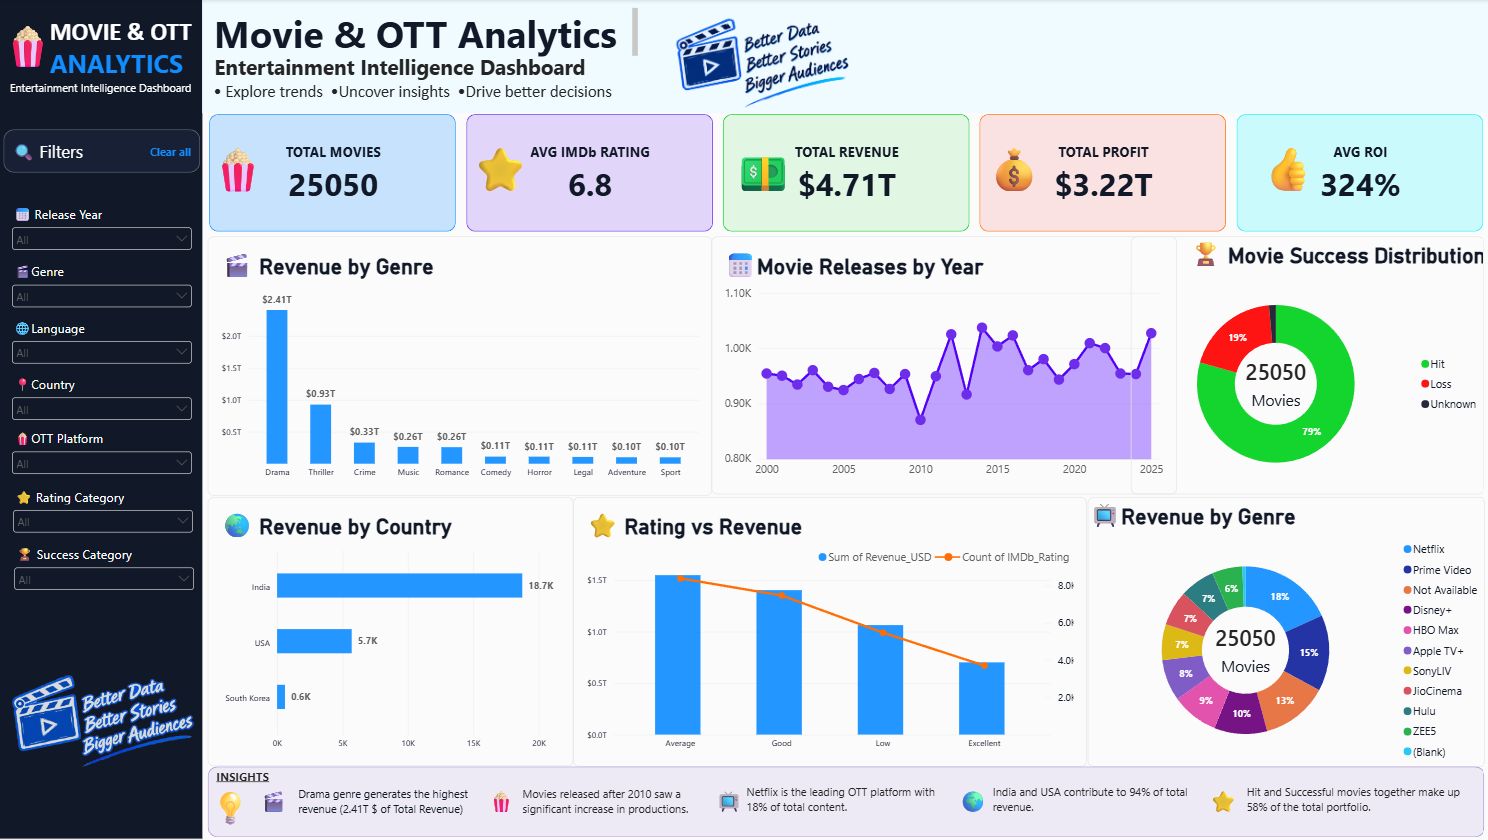

What the dashboard file says about the page in this screenshot:
{"tool":"powerbi","page":{"name":"Executive Dashboard","canvas":[1920,1080],"ordinal":0},"visuals":[{"type":"shape","box":[0,0,261.9,1079.9],"z":0},{"type":"textbox","box":[261.9,147,13.5,932.8],"z":1000},{"type":"textbox","box":[65.9,22,196,125.1],"z":2000},{"type":"shape","box":[261.7,0,1656.7,146.7],"z":3000},{"type":"textbox","box":[0,22,131.8,99.7],"z":4000},{"type":"textbox","box":[276,12,544.2,62.5],"z":5000},{"type":"textbox","box":[276,68,1620.6,36],"z":6000},{"type":"textbox","box":[275.5,107,1644.3,37.2],"z":7000},{"type":"columnChart","title":"🎬 Revenue by Genre","fields":{"Y":["Sum(Movies.Revenue_USD)"],"Category":["Movies.Sub_Genre"]},"box":[268.3,305,648.3,333.3],"z":8000},{"type":"donutChart","title":"📺Revenue by Genre","fields":{"Y":["CountNonNull(Movies.Movie_ID)"],"Category":["Movies.OTT_Platform"]},"box":[1398.6,640,511.7,346.7],"z":9000},{"type":"lineChart","title":"📅Movie Releases by Year","fields":{"Category":["Movies.Release_Year"],"Y":["CountNonNull(Movies.Movie_ID)"]},"box":[915,305,598.3,331.7],"z":10000},{"type":"barChart","title":"🌏 Revenue by Country","fields":{"Category":["Movies.Country"],"Y":["CountNonNull(Movies.Movie_ID)"]},"box":[268.3,640,470,346],"z":11000},{"type":"lineStackedColumnComboChart","title":"⭐ Rating vs Revenue","fields":{"Y":["Sum(Movies.Revenue_USD)"],"Category":["Movies.Rating_Category"],"Y2":["CountNonNull(Movies.IMDb_Rating)"]},"box":[738.3,640,660,346.7],"z":12000},{"type":"donutChart","title":"🏆 Movie Success Distribution","fields":{"Y":["CountNonNull(Movies.Movie_ID)"],"Category":["Movies.Success_category"]},"box":[1455,305,455,331.7],"z":13000},{"type":"cardVisual","fields":{"Data":["Movies.totsl movies","Movies.avg imdb","Movies.total_revenue","Movies.total profit","Movies.avg  ROI"]},"box":[268.3,146.7,1641.7,155],"z":14000},{"type":"textbox","box":[268.6,178.6,1648.6,87.1],"z":15000},{"type":"textbox","box":[0,104.3,261.4,21.4],"z":16000},{"type":"shape","title":"fILTERS","box":[5.7,167.1,252.9,55.7],"z":17000},{"type":"actionButton","box":[164.3,171.4,94.3,50],"z":18000},{"type":"textbox","box":[17.1,181.4,147.1,30],"z":19000},{"type":"slicer","fields":{"Values":["Movies.Release_Year"]},"box":[11.4,265.7,241.4,72.9],"z":20000},{"type":"slicer","fields":{"Values":["Movies.Sub_Genre"]},"box":[11.4,338.6,241.4,72.9],"z":21000},{"type":"slicer","fields":{"Values":["Movies.Language"]},"box":[11.4,411.4,241.4,72.9],"z":22000},{"type":"slicer","fields":{"Values":["Movies.Country"]},"box":[11.4,484.3,241.4,61.4],"z":23000},{"type":"slicer","fields":{"Values":["Movies.OTT_Platform"]},"box":[11.4,552.9,241.4,74.3],"z":24000},{"type":"slicer","fields":{"Values":["Movies.Rating_Category"]},"box":[12.9,628.6,241.4,74.3],"z":25000},{"type":"slicer","fields":{"Values":["Movies.Success_category"]},"box":[14.3,702.9,241.4,74.3],"z":26000},{"type":"image","box":[778.3,0,393.3,143.3],"z":27000},{"type":"shape","box":[268.3,986.7,1641.7,91],"z":28000},{"type":"textbox","box":[268.9,1008.9,50,68.9],"z":29000},{"type":"textbox","box":[384.3,1011.4,231.4,65.7],"z":30000},{"type":"textbox","box":[280,989,142.2,22.2],"z":31000},{"type":"textbox","box":[672.9,1011.4,224.3,65.7],"z":32000},{"type":"textbox","box":[960,1008.6,254.3,68.6],"z":33000},{"type":"image","box":[0,777.8,254.4,281.1],"z":34000},{"type":"textbox","box":[1277.1,1008.6,252.9,68.6],"z":35000},{"type":"textbox","box":[100,305.6,625.6,240],"z":36000},{"type":"textbox","box":[1602.9,1008.6,291.4,68.6],"z":36001},{"type":"textbox","box":[334.3,1011.4,1320,65.7],"z":36002}]}

Visuals, with their boxes in screenshot pixels (x1, y1, x2, y2), scaled from the page's 1920x1080 canvas onto the 1488x840 screenshot:
shape: pyautogui.locateOnScreen(0, 0, 203, 839)
textbox: pyautogui.locateOnScreen(203, 114, 213, 839)
textbox: pyautogui.locateOnScreen(51, 17, 203, 114)
shape: pyautogui.locateOnScreen(203, 0, 1487, 114)
textbox: pyautogui.locateOnScreen(0, 17, 102, 95)
textbox: pyautogui.locateOnScreen(214, 9, 636, 58)
textbox: pyautogui.locateOnScreen(214, 53, 1470, 81)
textbox: pyautogui.locateOnScreen(214, 83, 1487, 112)
"🎬 Revenue by Genre" columnChart: pyautogui.locateOnScreen(208, 237, 710, 496)
"📺Revenue by Genre" donutChart: pyautogui.locateOnScreen(1084, 498, 1480, 767)
"📅Movie Releases by Year" lineChart: pyautogui.locateOnScreen(709, 237, 1173, 495)
"🌏 Revenue by Country" barChart: pyautogui.locateOnScreen(208, 498, 572, 767)
"⭐ Rating vs Revenue" lineStackedColumnComboChart: pyautogui.locateOnScreen(572, 498, 1084, 767)
"🏆 Movie Success Distribution" donutChart: pyautogui.locateOnScreen(1128, 237, 1480, 495)
cardVisual - Movies.totsl movies x Movies.avg imdb: pyautogui.locateOnScreen(208, 114, 1480, 235)
textbox: pyautogui.locateOnScreen(208, 139, 1486, 207)
textbox: pyautogui.locateOnScreen(0, 81, 203, 98)
"fILTERS" shape: pyautogui.locateOnScreen(4, 130, 200, 173)
actionButton: pyautogui.locateOnScreen(127, 133, 200, 172)
textbox: pyautogui.locateOnScreen(13, 141, 127, 164)
slicer - Movies.Release_Year: pyautogui.locateOnScreen(9, 207, 196, 263)
slicer - Movies.Sub_Genre: pyautogui.locateOnScreen(9, 263, 196, 320)
slicer - Movies.Language: pyautogui.locateOnScreen(9, 320, 196, 377)
slicer - Movies.Country: pyautogui.locateOnScreen(9, 377, 196, 424)
slicer - Movies.OTT_Platform: pyautogui.locateOnScreen(9, 430, 196, 488)
slicer - Movies.Rating_Category: pyautogui.locateOnScreen(10, 489, 197, 547)
slicer - Movies.Success_category: pyautogui.locateOnScreen(11, 547, 198, 604)
image: pyautogui.locateOnScreen(603, 0, 908, 111)
shape: pyautogui.locateOnScreen(208, 767, 1480, 838)
textbox: pyautogui.locateOnScreen(208, 785, 247, 838)
textbox: pyautogui.locateOnScreen(298, 787, 477, 838)
textbox: pyautogui.locateOnScreen(217, 769, 327, 786)
textbox: pyautogui.locateOnScreen(521, 787, 695, 838)
textbox: pyautogui.locateOnScreen(744, 784, 941, 838)
image: pyautogui.locateOnScreen(0, 605, 197, 824)
textbox: pyautogui.locateOnScreen(990, 784, 1186, 838)
textbox: pyautogui.locateOnScreen(78, 238, 562, 424)
textbox: pyautogui.locateOnScreen(1242, 784, 1468, 838)
textbox: pyautogui.locateOnScreen(259, 787, 1282, 838)
